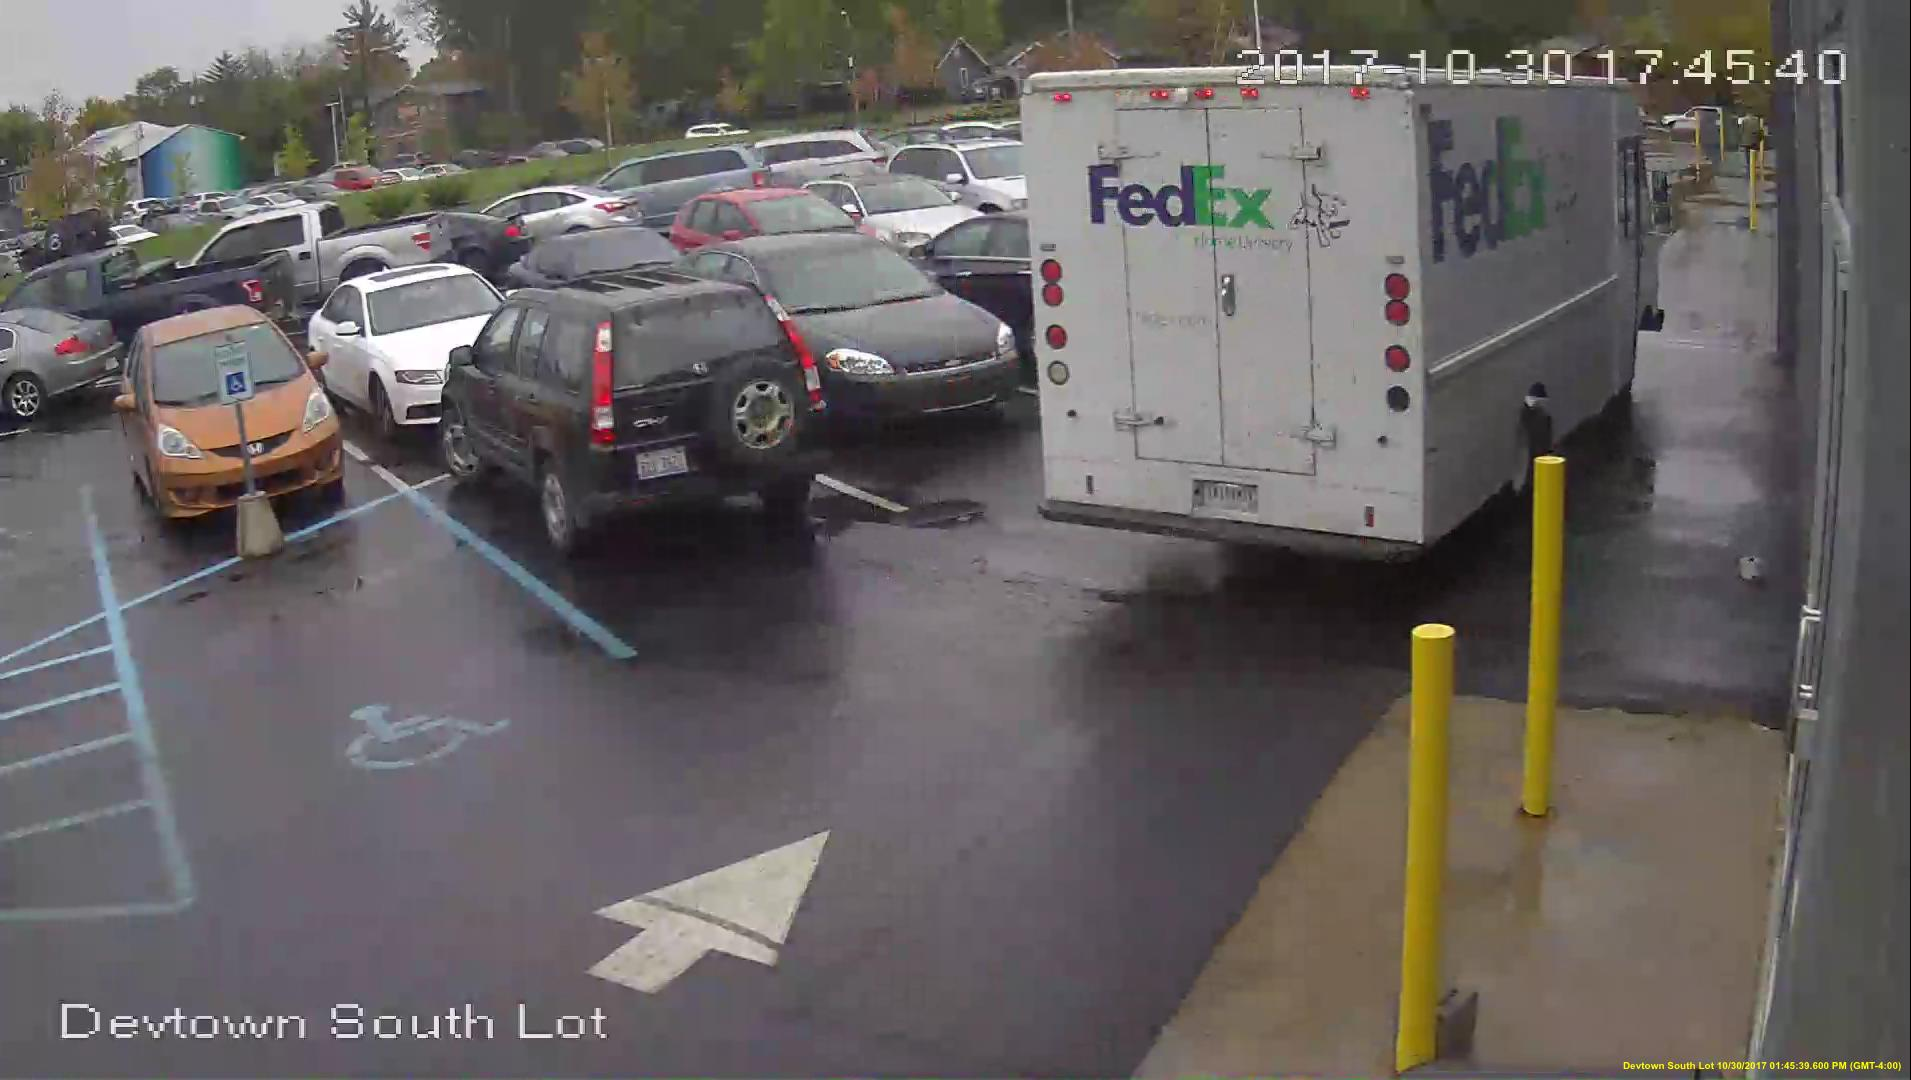fedex_truck: (1036, 73, 1652, 552)
